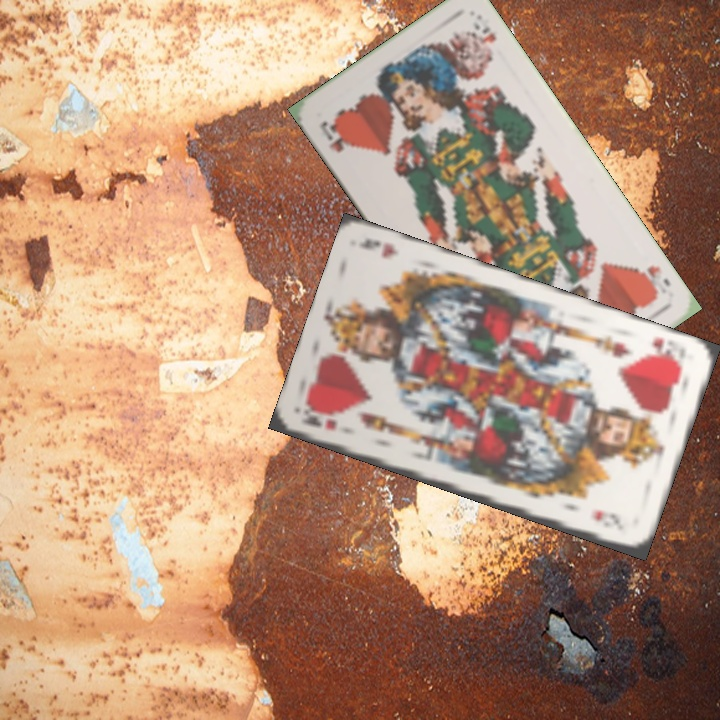HK: (641, 333, 686, 368), (297, 410, 341, 433)
HO: (632, 261, 673, 301), (315, 116, 355, 155)
